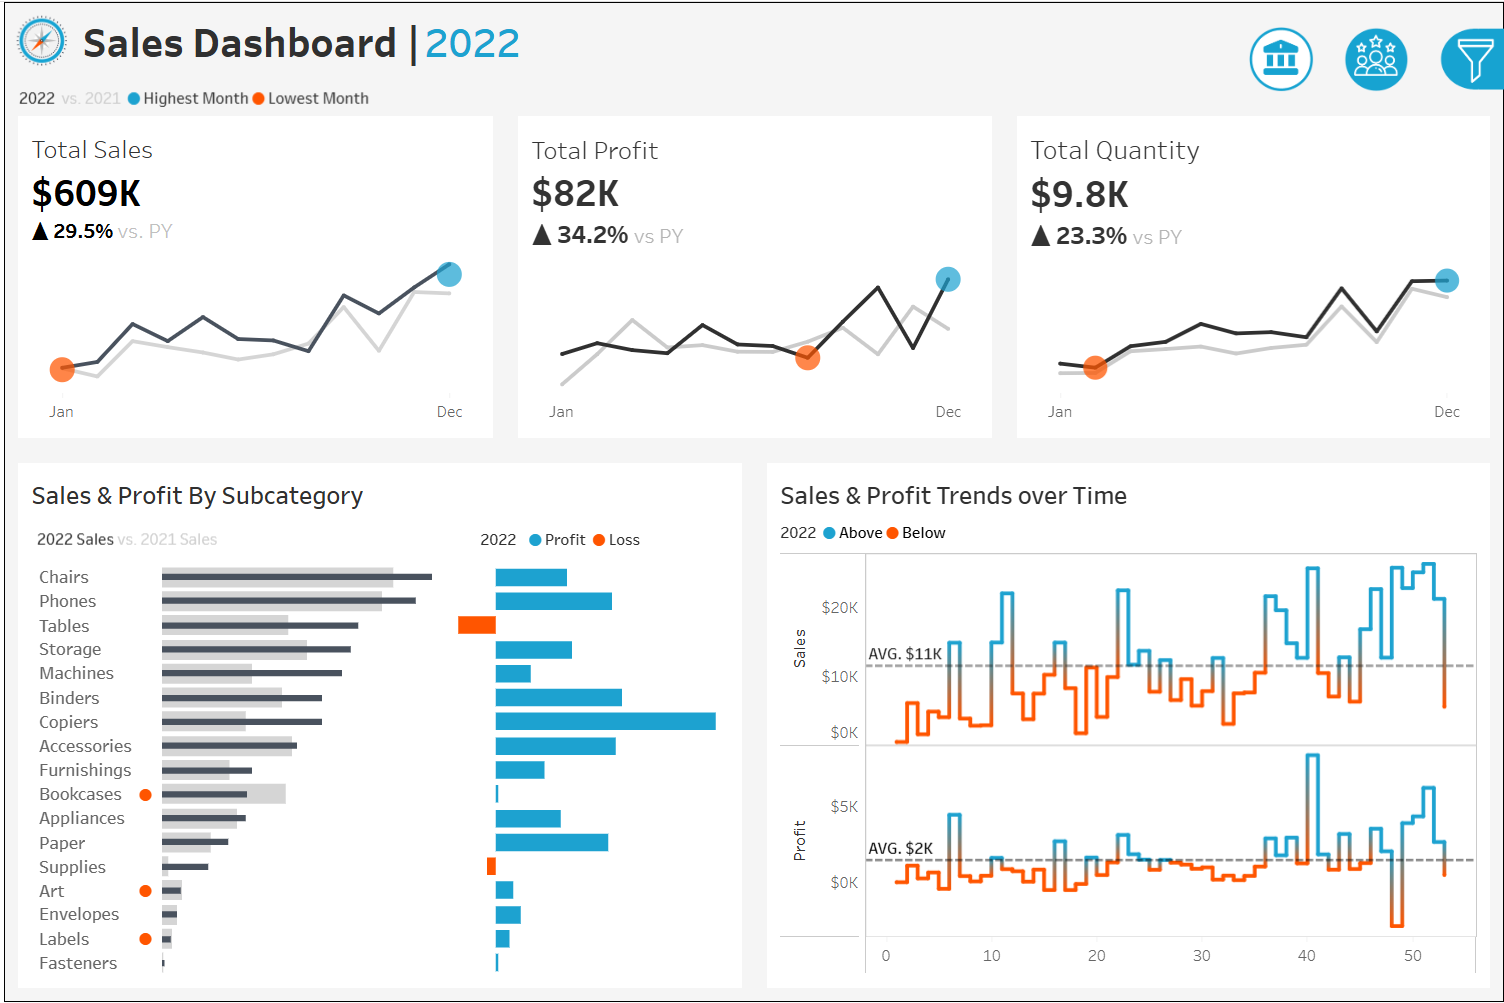

Layout of this report page (visuals, bound fields, positions):
{"tool":"tableau","page":{"name":"Sales Dashboard","canvas":[1200,800],"ordinal":1},"visuals":[{"type":"image","param":"D:/PARA/01 Projects/Create portfolio/Tableau/Sales-Dashboard-Materials/Sales Das","box":[1,1,58,60]},{"type":"text","box":[59,1,766,60]},{"type":"blank","box":[998,11,190,70]},{"type":"dashboard-object","box":[984,16,76,60]},{"type":"dashboard-object","box":[1060,16,76,60]},{"type":"worksheet","title":"Legend KPI","mark":"Automatic","box":[1,61,1198,30]},{"type":"text","box":[998,81,190,40]},{"type":"worksheet","title":"KPI Sales","mark":"Automatic","rows":["Calculation_1024006001373376516"],"cols":["Order Date"],"box":[1,91,400,268]},{"type":"worksheet","title":"KPI Profits","mark":"Line","rows":["Calculation_1024006001667932173"],"cols":["Order Date"],"box":[401,91,399,268]},{"type":"worksheet","title":"KPI Quantity","mark":"Line","rows":["Min/Max Sales (copy)_1024006001684439061"],"cols":["Order Date"],"box":[800,91,399,268]},{"type":"parameter","param":"[Parameters].[Parameter 1]","box":[998,121,190,61]},{"type":"blank","box":[998,182,190,32]},{"type":"text","box":[998,214,190,33]},{"type":"filter","title":"KPI Sales","param":"[federated.06loeet1mj79jl1d7w04m1d4yi2a].[none:Category:nk]","box":[998,247,190,56]},{"type":"filter","title":"KPI Sales","param":"[federated.06loeet1mj79jl1d7w04m1d4yi2a].[none:Sub-Category:nk]","box":[998,303,190,56]},{"type":"blank","box":[998,359,190,26]},{"type":"text","box":[18,376,565,40]},{"type":"text","box":[617,376,565,40]},{"type":"text","box":[998,385,190,33]},{"type":"worksheet","title":"Legend Subcategory","mark":"Automatic","box":[18,416,359,35]},{"type":"text","box":[377,416,206,35]},{"type":"text","box":[617,416,565,29]},{"type":"filter","title":"KPI Sales","param":"[federated.06loeet1mj79jl1d7w04m1d4yi2a].[none:Region:nk]","box":[998,418,190,56]},{"type":"worksheet","title":"Weekly Trends","mark":"Line","rows":["Calculation_1024006001359978496","Calculation_1024006001663000586"],"cols":["Order Date"],"box":[617,445,565,337]},{"type":"worksheet","title":"Subccategory Comparision","mark":"Bar","rows":["Sub-Category","Calculation_1233423384661626880"],"cols":["CY Sales (copy)_1024006001361219585","Calculation_1024006001359978496","Calculation_1024006001663000586"],"box":[18,451,565,330.9]},{"type":"filter","title":"KPI Sales","param":"[federated.06loeet1mj79jl1d7w04m1d4yi2a].[none:State:nk]","box":[998,474,190,56]},{"type":"filter","title":"KPI Sales","param":"[federated.06loeet1mj79jl1d7w04m1d4yi2a].[none:City:nk]","box":[998,530,190,56]}]}

Visuals, with their boxes in screenshot pixels (x1, y1, x2, y2), scaled from the page's 1200x800 canvas onto the 1504x1003 screenshot:
image: 1:1:74:76
text: 74:1:1034:76
blank: 1251:14:1489:102
dashboard-object: 1233:20:1329:95
dashboard-object: 1329:20:1424:95
"Legend KPI" worksheet: 1:76:1503:114
text: 1251:102:1489:152
"KPI Sales" worksheet: 1:114:503:450
"KPI Profits" worksheet (Line marks): 503:114:1003:450
"KPI Quantity" worksheet (Line marks): 1003:114:1503:450
parameter: 1251:152:1489:228
blank: 1251:228:1489:268
text: 1251:268:1489:310
"KPI Sales" filter: 1251:310:1489:380
"KPI Sales" filter: 1251:380:1489:450
blank: 1251:450:1489:483
text: 23:471:731:522
text: 773:471:1481:522
text: 1251:483:1489:524
"Legend Subcategory" worksheet: 23:522:473:565
text: 473:522:731:565
text: 773:522:1481:558
"KPI Sales" filter: 1251:524:1489:594
"Weekly Trends" worksheet (Line marks): 773:558:1481:980
"Subccategory Comparision" worksheet (Bar marks): 23:565:731:980
"KPI Sales" filter: 1251:594:1489:664
"KPI Sales" filter: 1251:664:1489:735
